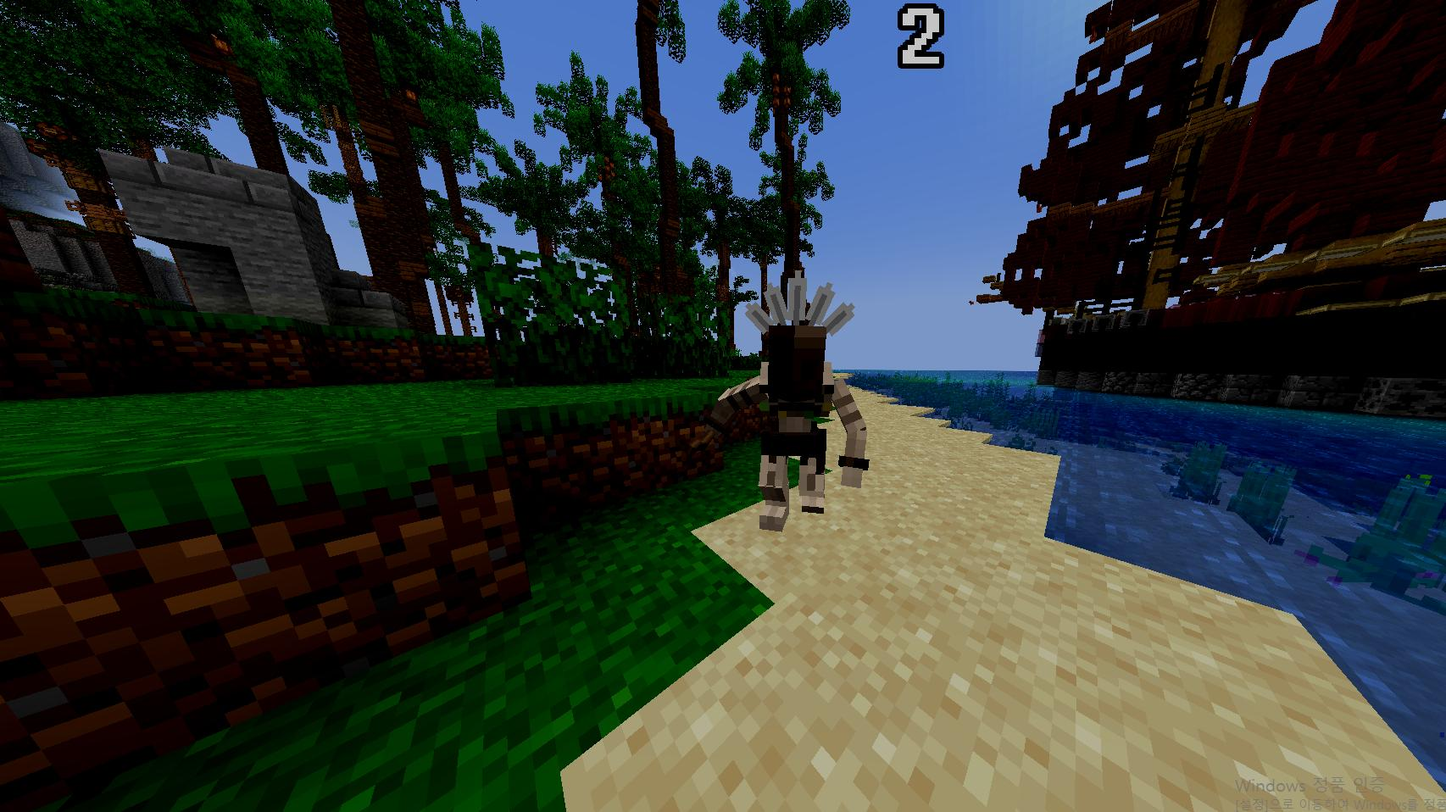bow_indian: (685, 267, 926, 561)
